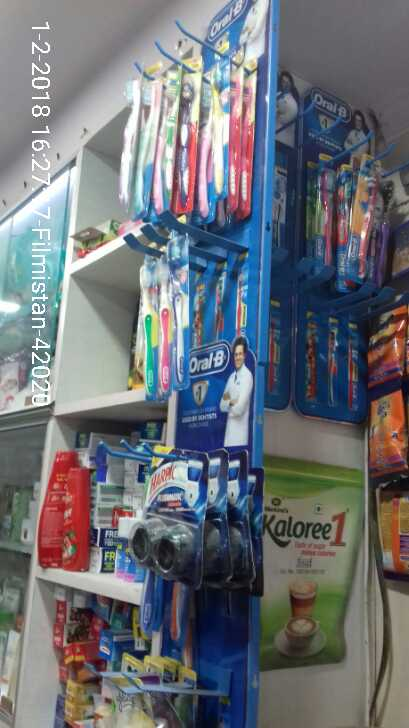oralb: (137, 249, 158, 399), (158, 247, 178, 397)
